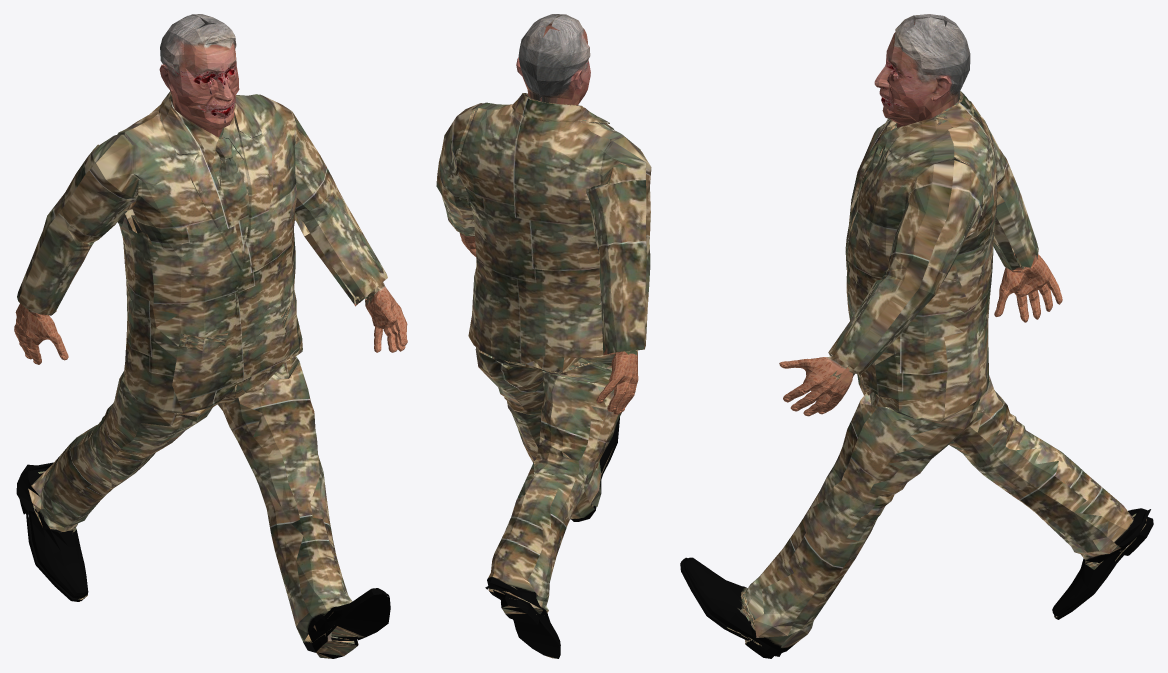
The model's file is zombie_000012.obj.
3 renders of one model, left to right at view 1: azimuth 30°, elevation 25°; view 2: azimuth 150°, elevation 25°; view 3: azimuth 270°, elevation 25°, orthographic. The views are drawn at different scales.
Visible parts, largest first — view 1: Suit_coat_orig_9___De, objGeo_Hea_orig_9___D; view 2: Suit_coat_orig_9___De, objGeo_Hea_orig_9___D; view 3: Suit_coat_orig_9___De, objGeo_Hea_orig_9___D.
Part boxes in pixels (x1,y1,x2,y2): Suit_coat_orig_9___De: (14,91,407,658); objGeo_Hea_orig_9___D: (159,14,239,137); Suit_coat_orig_9___De: (436,93,651,658); objGeo_Hea_orig_9___D: (516,14,590,105); Suit_coat_orig_9___De: (680,91,1153,658); objGeo_Hea_orig_9___D: (874,14,970,127).
Size of the model in its own units: 0.8864 by 1.82 by 1.24.
